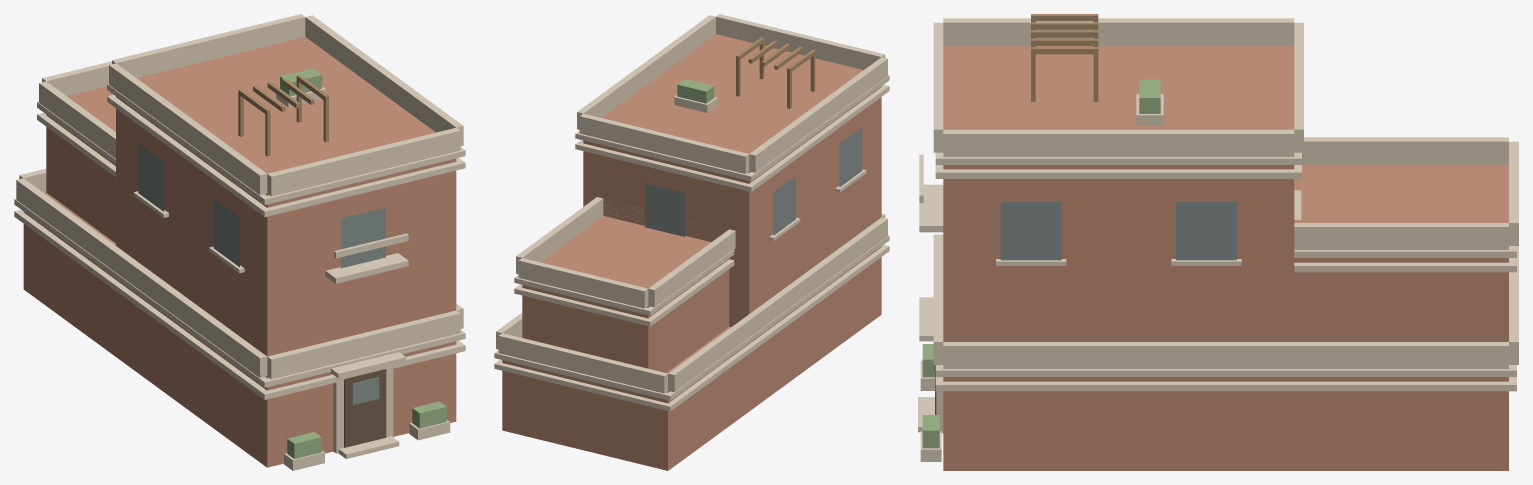
The model's file is residential_1x2_court.glb.
3 views of the same model, side by side, from view 1: azimuth 30°, elevation 25°; view 2: azimuth 150°, elevation 25°; view 3: azimuth 270°, elevation 25° (orthographic). The views are drawn at different scales.
Parts seen in each view (by area): view 1: residential_1x2_court_0; view 2: residential_1x2_court_0; view 3: residential_1x2_court_0.
Boxes of the visible parts, x1,y1,x2,y2 form: residential_1x2_court_0: [14, 14, 465, 470]; residential_1x2_court_0: [494, 14, 889, 470]; residential_1x2_court_0: [918, 14, 1518, 470].
Bounding box in the file's own units: 7 × 10.5 × 15.4.
